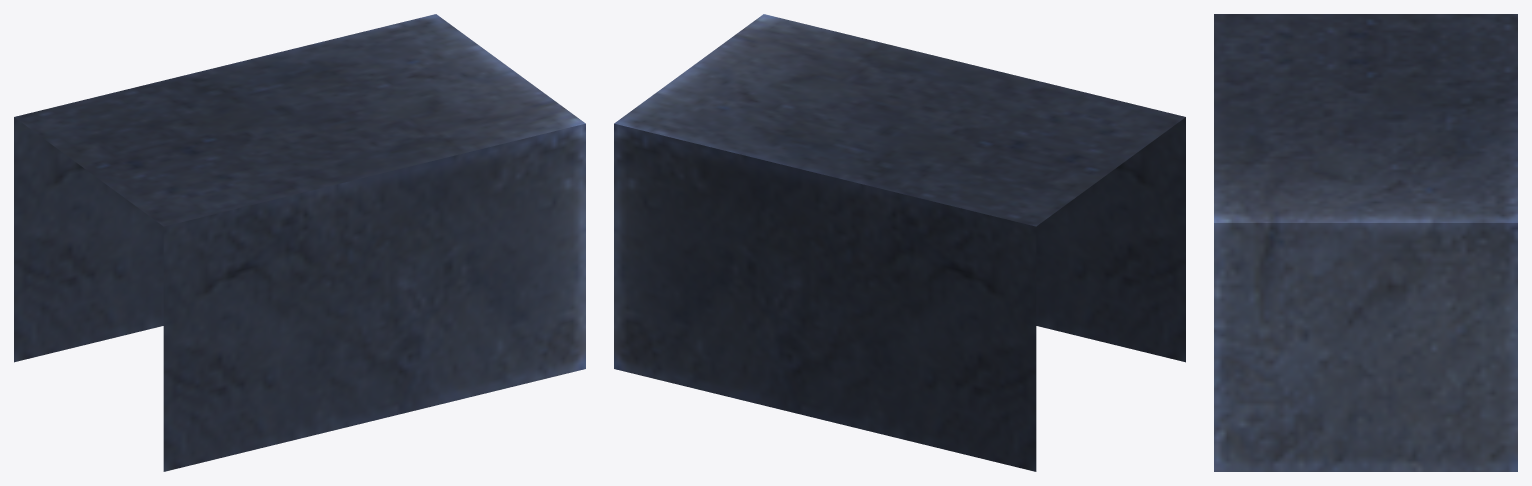
File: FB_MoFangHuanJing_Zhuanqiang04.FBX
3 views of the same model, side by side, from view 1: azimuth 30°, elevation 25°; view 2: azimuth 150°, elevation 25°; view 3: azimuth 270°, elevation 25° (orthographic).
Visible parts, largest first — view 1: Object06; view 2: Object06; view 3: Object06.
Boxes of the visible parts, left/top/right/bottom form: Object06: left=14, top=14, right=585, bottom=471; Object06: left=614, top=14, right=1185, bottom=471; Object06: left=1214, top=14, right=1517, bottom=471.
Size of the model in its own units: 3.29 by 1.83 by 2.02.
